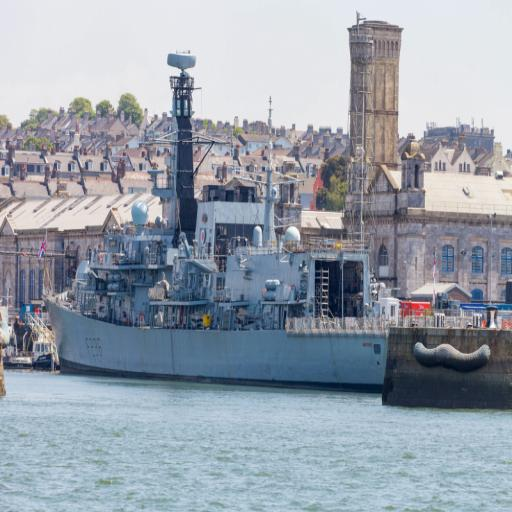Fragata: (40, 47, 407, 385)
